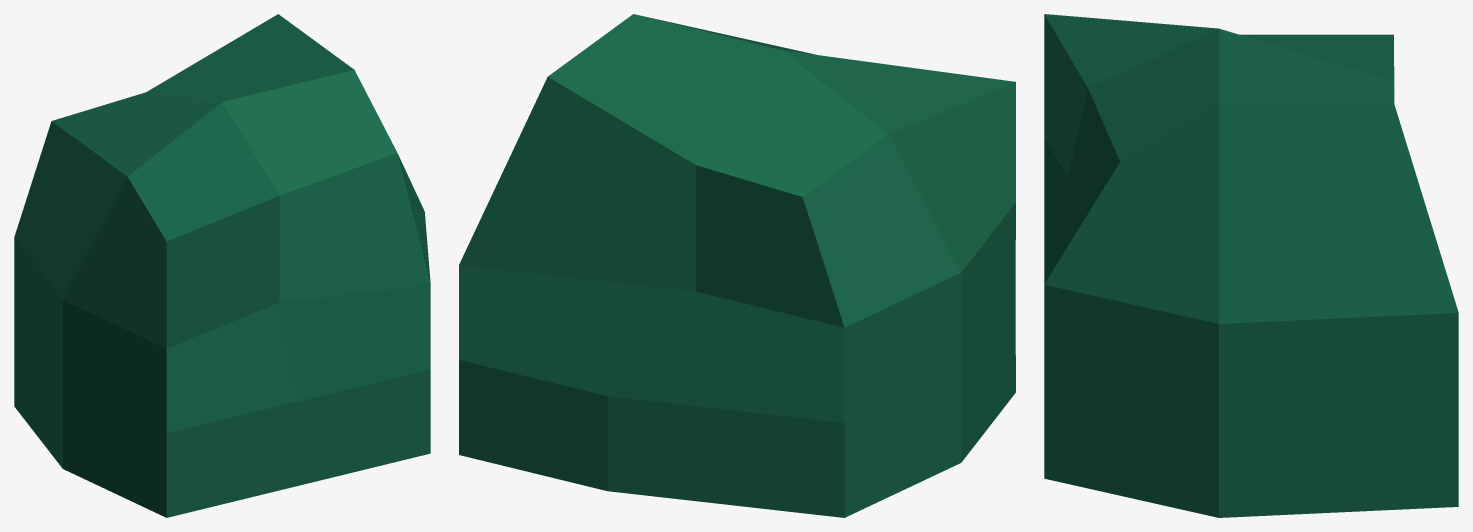
Rendered from mato2.fbx.
3 renders of one model, left to right at view 1: azimuth 30°, elevation 25°; view 2: azimuth 150°, elevation 25°; view 3: azimuth 270°, elevation 25°, orthographic. The views are drawn at different scales.
Parts seen in each view (by area): view 1: Cube; view 2: Cube; view 3: Cube.
Boxes of the visible parts, x1,y1,x2,y2 form: Cube: [14, 14, 430, 517]; Cube: [459, 14, 1015, 517]; Cube: [1044, 14, 1458, 517].
Size of the model in its own units: 274 by 237 by 237.
